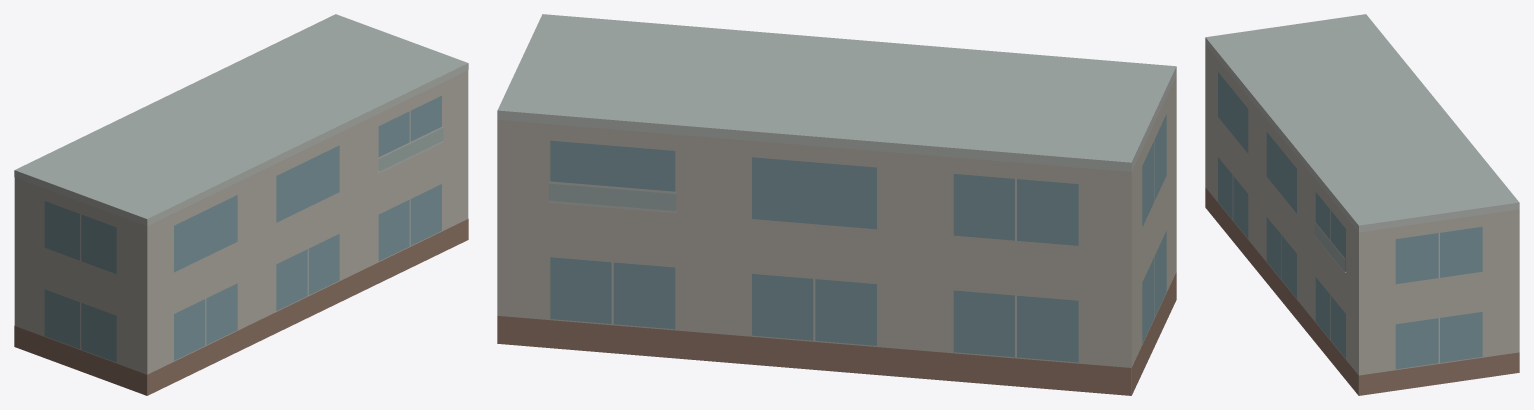
Rendered from survey-upis-32908762.glb.
The picture shows the model from 3 angles, left to right: view 1: azimuth 30°, elevation 25°; view 2: azimuth 150°, elevation 25°; view 3: azimuth 270°, elevation 25°; orthographic projection. The views are drawn at different scales.
Parts seen in each view (by area): view 1: survey-upis-32908762.tmp; view 2: survey-upis-32908762.tmp; view 3: survey-upis-32908762.tmp.
Part boxes in pixels (box(x1,y1,x2,y2)): survey-upis-32908762.tmp: box(14, 14, 468, 395); survey-upis-32908762.tmp: box(497, 14, 1176, 395); survey-upis-32908762.tmp: box(1205, 14, 1519, 395).
Bounding box in the file's own units: 16.27 × 6.1 × 10.21.
